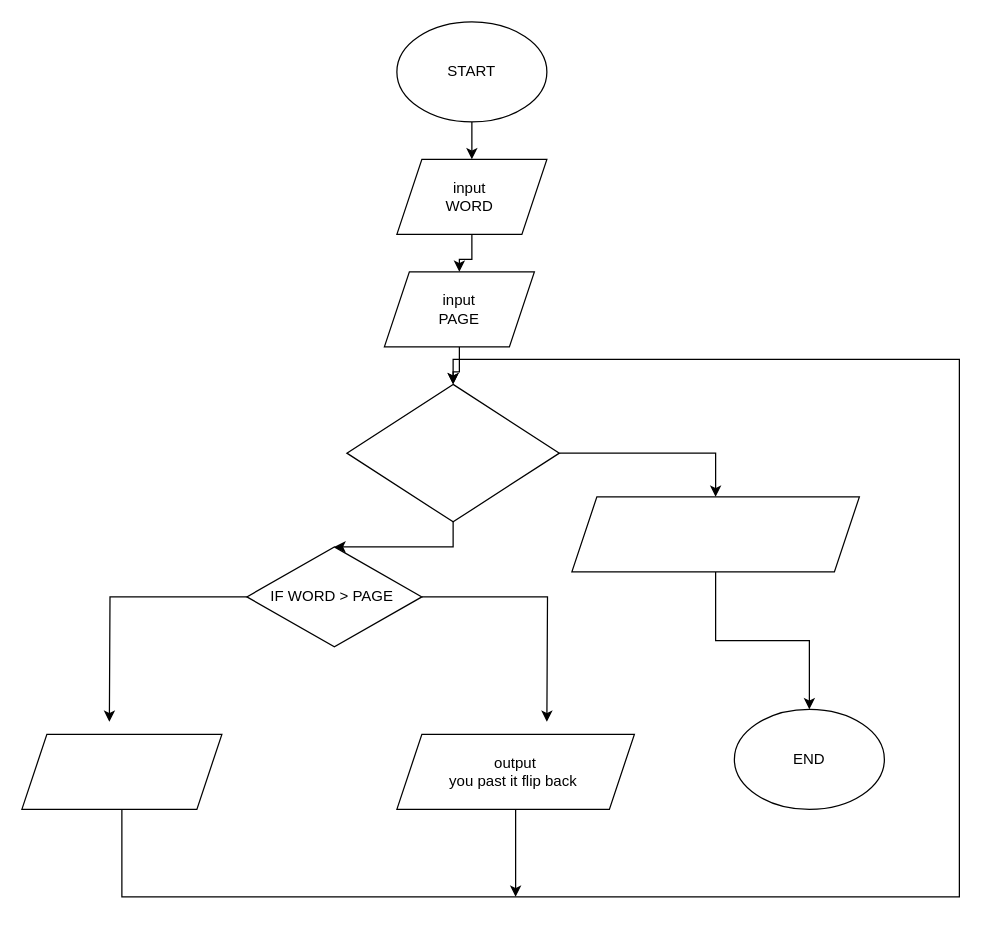
Some shapes in this 991 by 929 pixel diagram are drawn without their labels. Here are the shapes that lost their labels. From the top down, the centre of each, then its label:
point 452,452: if WORD == PAGE
point 715,534: output GREAT WE FOUND THE WORD!
point 121,771: output flip forward some pages
